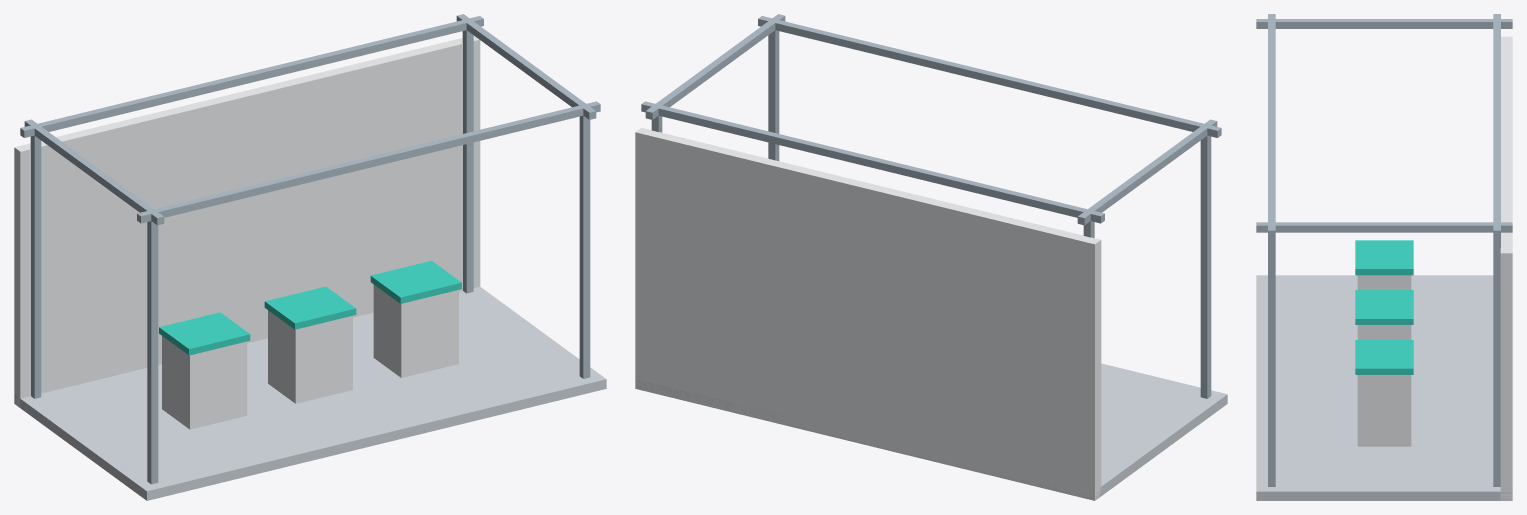
3 renders of one model, left to right at view 1: azimuth 30°, elevation 25°; view 2: azimuth 150°, elevation 25°; view 3: azimuth 270°, elevation 25°, orthographic. The views are drawn at different scales.
Visible parts, largest first — view 1: Exhibition Booth Concept; view 2: Exhibition Booth Concept; view 3: Exhibition Booth Concept.
Part boxes in pixels (bbox=[...]): Exhibition Booth Concept: bbox=[14, 14, 606, 500]; Exhibition Booth Concept: bbox=[635, 14, 1227, 500]; Exhibition Booth Concept: bbox=[1256, 14, 1512, 500].
Bounding box in the file's own units: 6 × 3.49 × 3.
